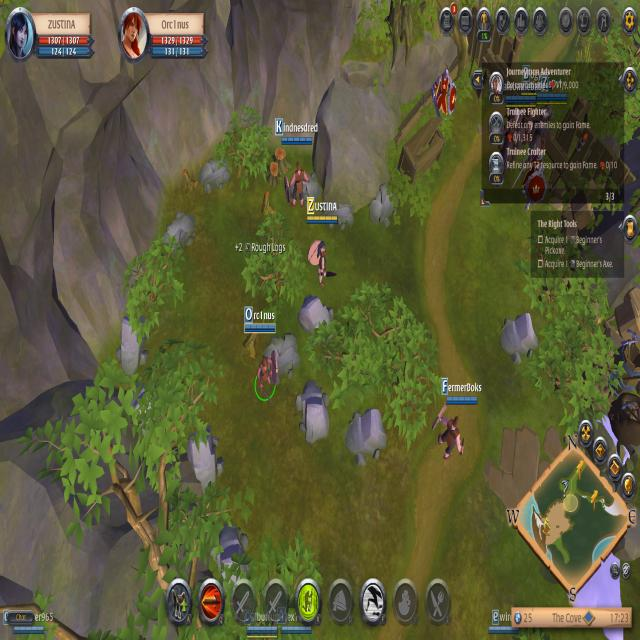broken stone: (261, 326, 303, 388), (366, 171, 402, 228), (195, 150, 234, 199), (156, 214, 199, 254), (292, 169, 324, 209), (323, 198, 357, 234)
stone: (499, 299, 546, 375), (298, 285, 337, 355), (180, 429, 224, 491), (346, 405, 385, 463), (116, 316, 149, 381), (298, 382, 326, 442)
